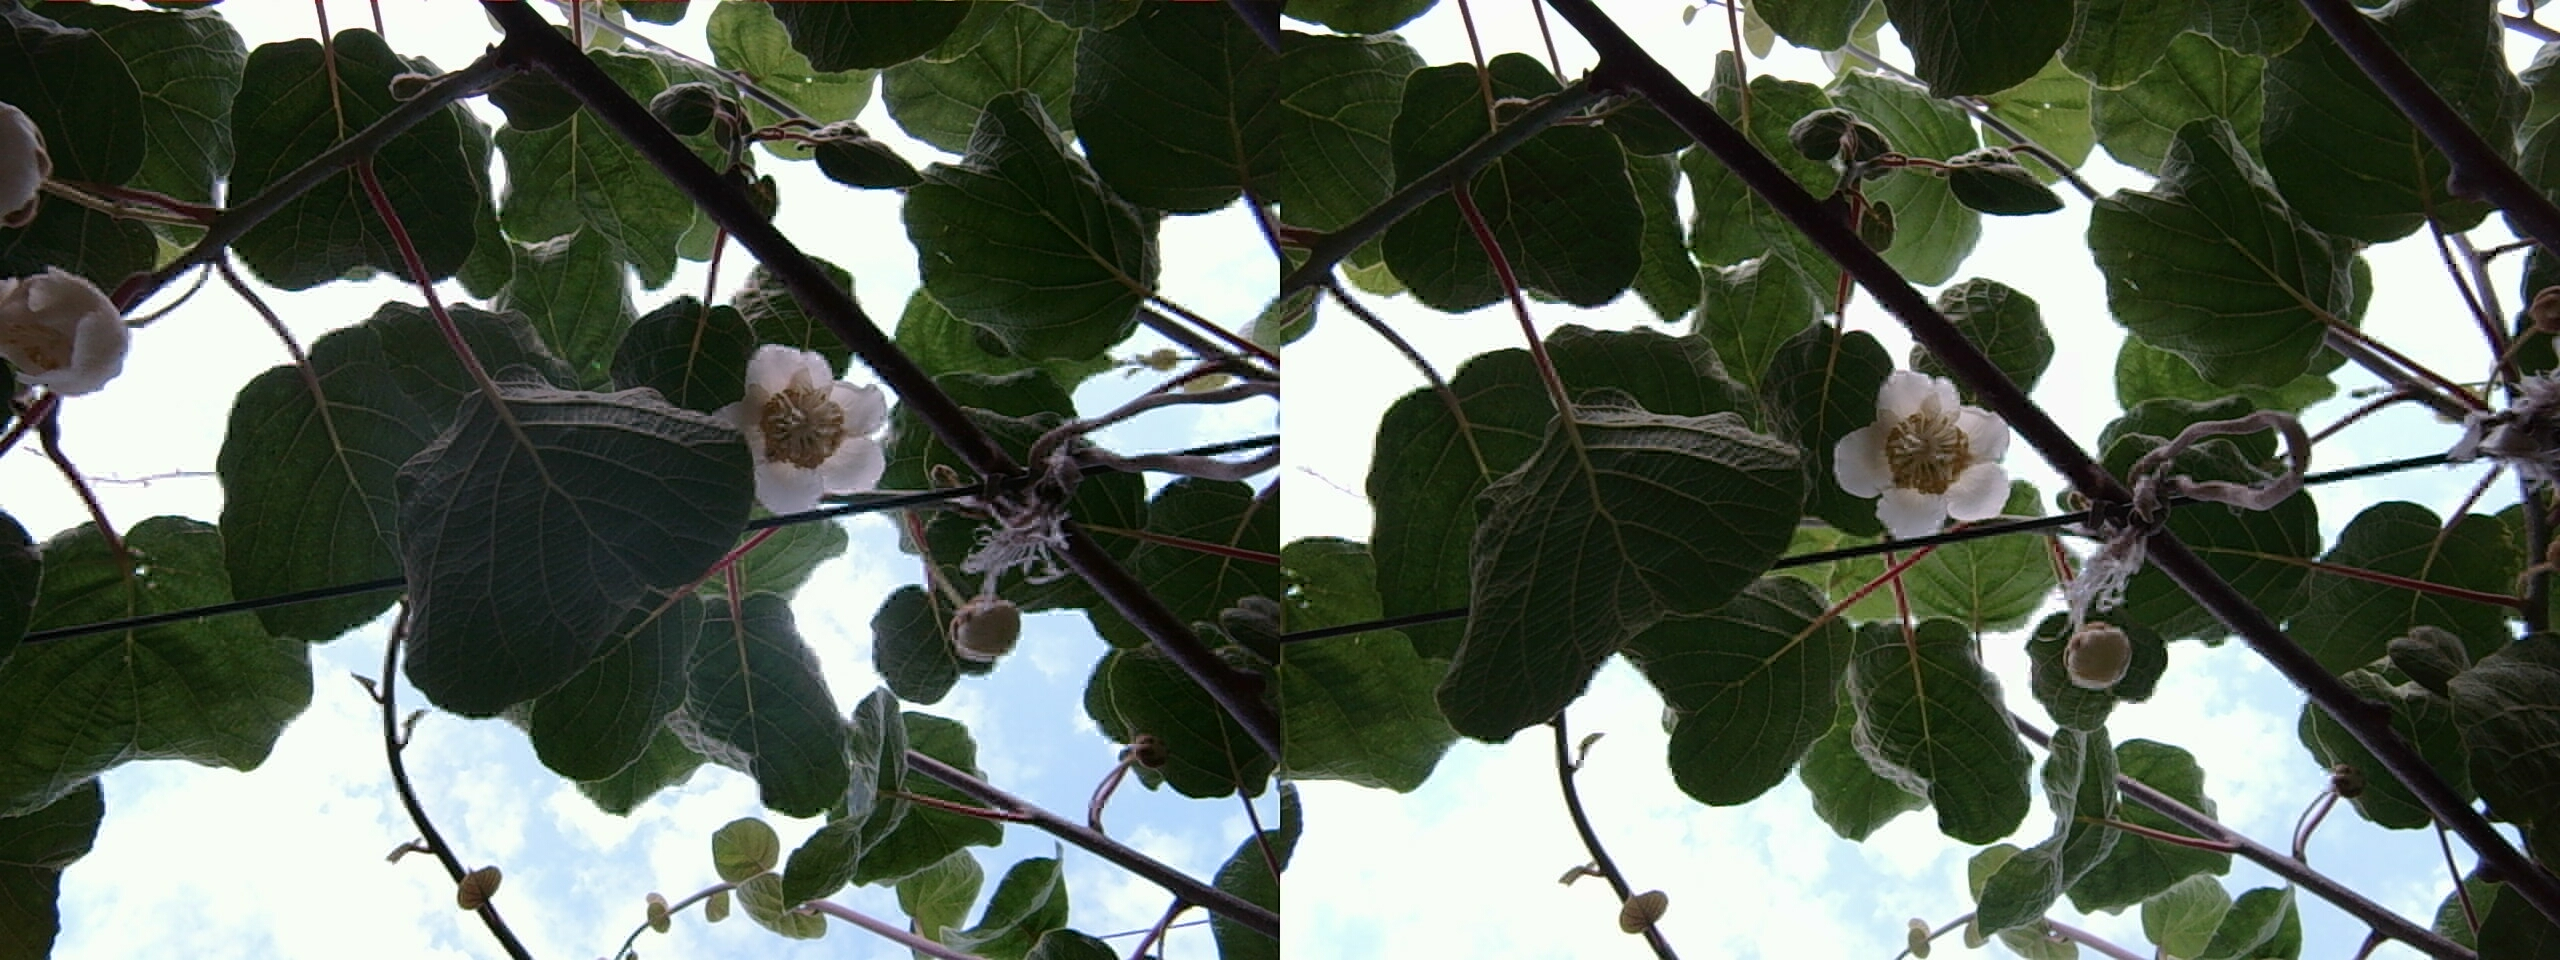flower: (1827, 354, 2013, 526), (715, 336, 887, 508)
